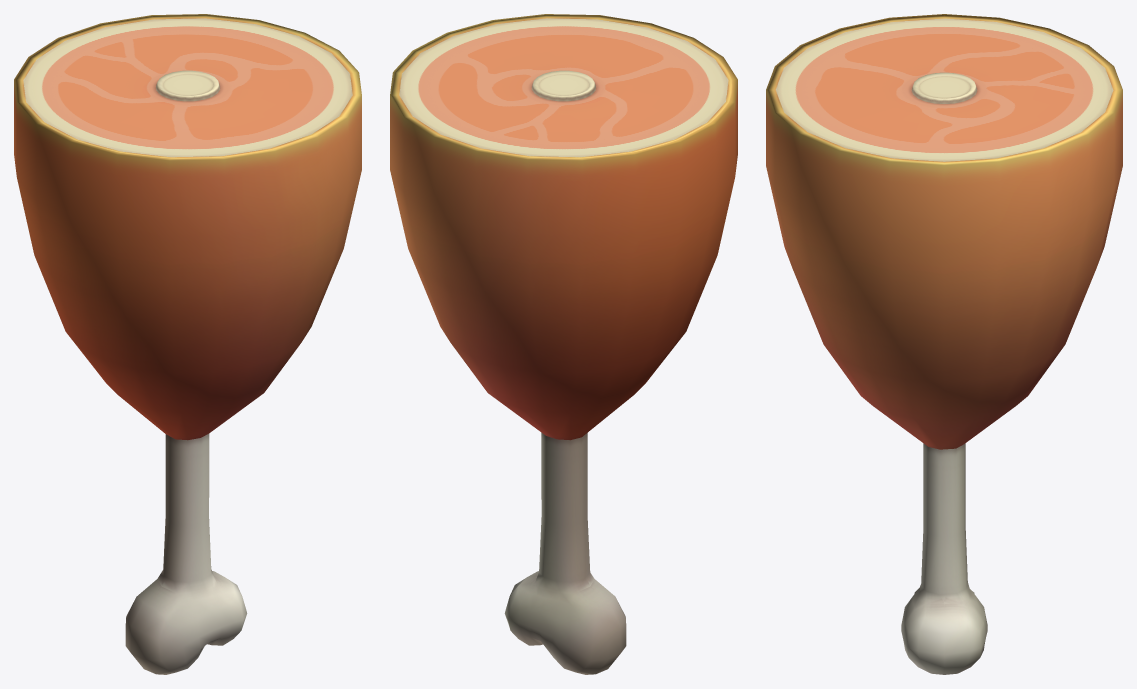
Rendered from ham_v1.fbx.
The picture shows the model from 3 angles, left to right: view 1: azimuth 30°, elevation 25°; view 2: azimuth 150°, elevation 25°; view 3: azimuth 270°, elevation 25°; orthographic projection. The views are drawn at different scales.
Visible parts, largest first — view 1: Ham; view 2: Ham; view 3: Ham.
Part boxes in pixels (left/top/right/bottom): Ham: left=14, top=14, right=361, bottom=674; Ham: left=390, top=14, right=737, bottom=674; Ham: left=766, top=14, right=1122, bottom=674.
Bounding box in the file's own units: 50.63 × 92.72 × 50.61.
Materials: 1 (1 with a texture image).
